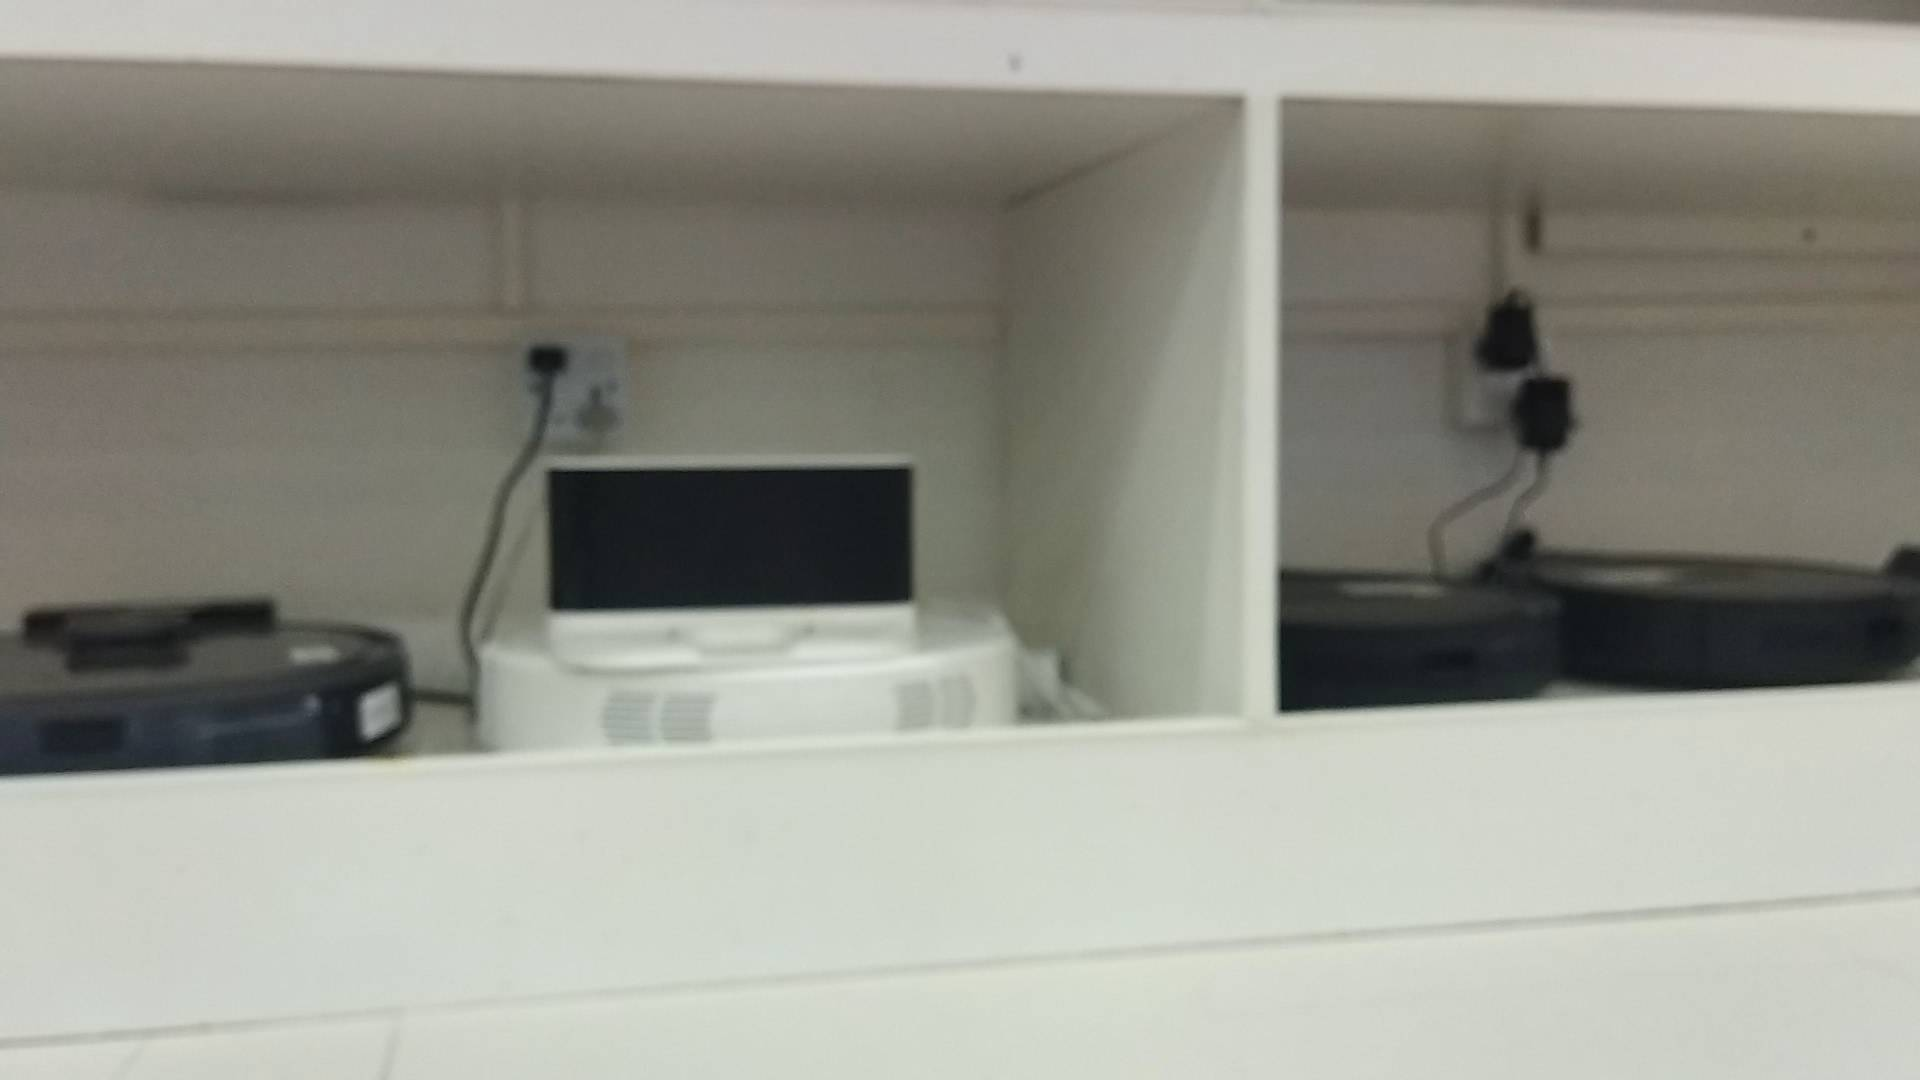recharge seat: (541, 451, 922, 676)
